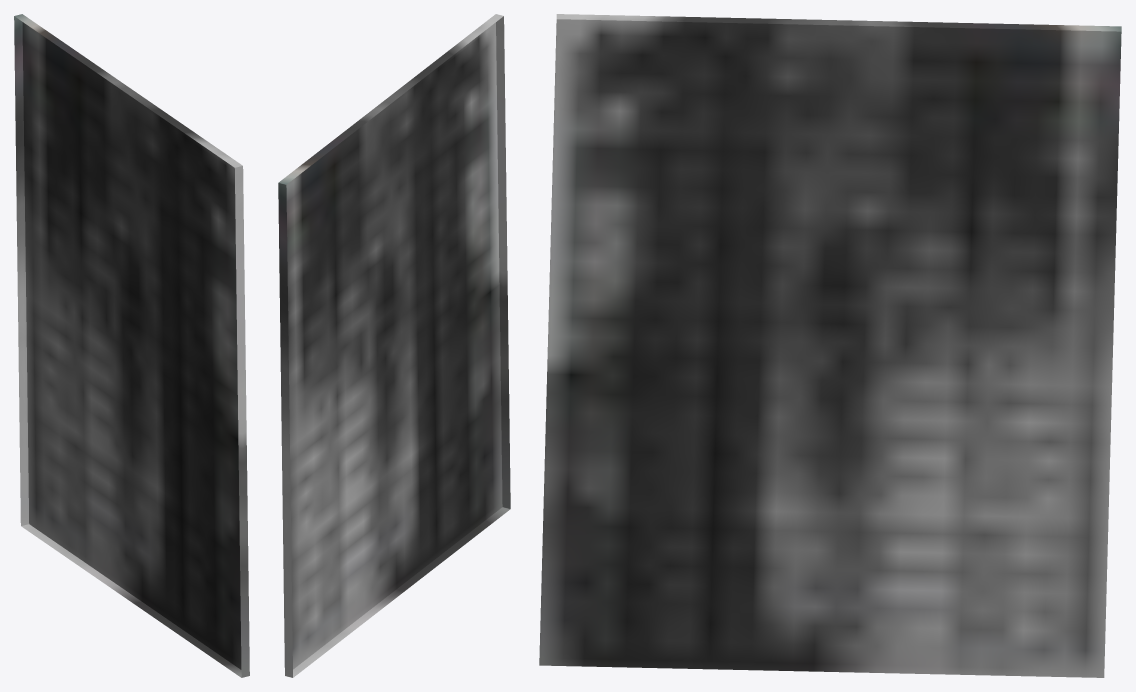
The model's file is Paper06.FBX.
3 views of the same model, side by side, from view 1: azimuth 30°, elevation 25°; view 2: azimuth 150°, elevation 25°; view 3: azimuth 270°, elevation 25° (orthographic). The views are drawn at different scales.
Visible parts, largest first — view 1: Paper06; view 2: Paper06; view 3: Paper06.
Boxes of the visible parts, <box> form: Paper06: <box>14,14,249,677</box>; Paper06: <box>278,14,510,677</box>; Paper06: <box>539,14,1121,677</box>.
Bounding box in the file's own units: 0.4108 × 24.34 × 19.49.
